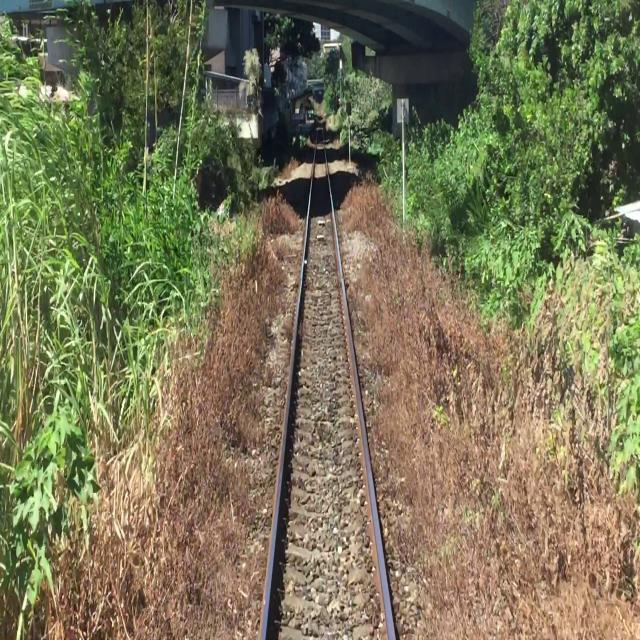track: (257, 107, 400, 640)
